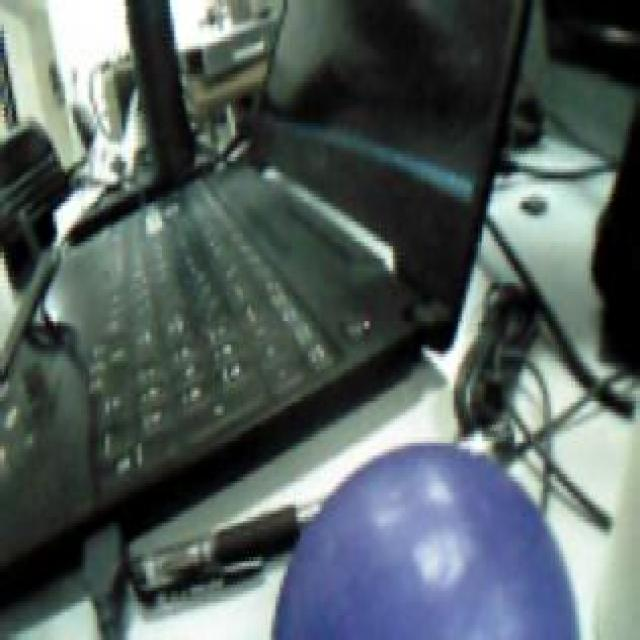BallPurple: (274, 442, 576, 640)
